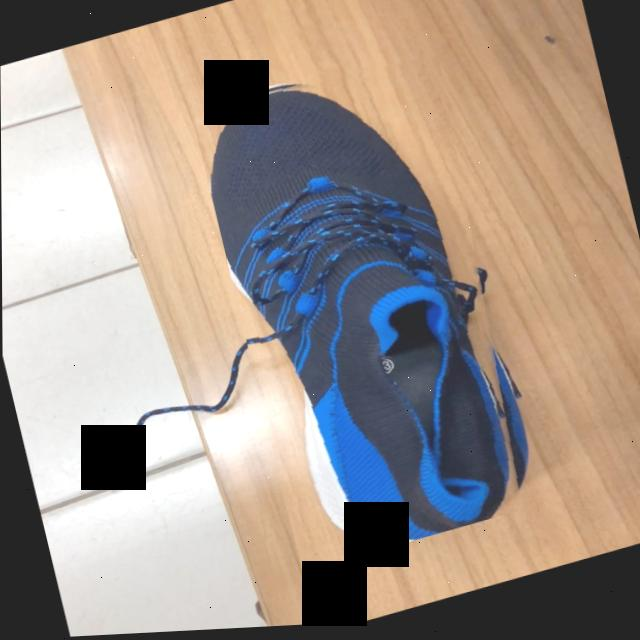shoe: (210, 91, 515, 549)
